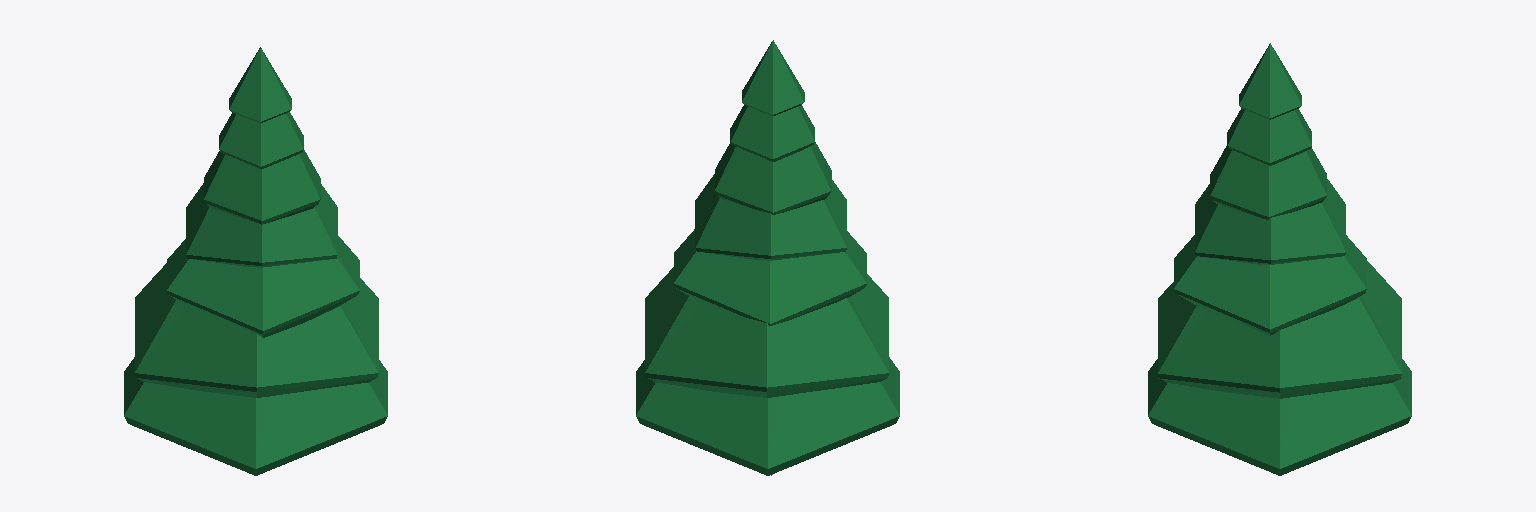
Rendered from Arvore.obj.
3 views of the same model, side by side, from view 1: azimuth 30°, elevation 25°; view 2: azimuth 150°, elevation 25°; view 3: azimuth 270°, elevation 25° (orthographic).
Parts seen in each view (by area): view 1: Arvore; view 2: Arvore; view 3: Arvore.
Boxes of the visible parts, x1,y1,x2,y2 form: Arvore: [124, 47, 387, 475]; Arvore: [636, 40, 899, 475]; Arvore: [1148, 43, 1411, 475].
Size of the model in its own units: 47.64 by 73.26 by 41.26.